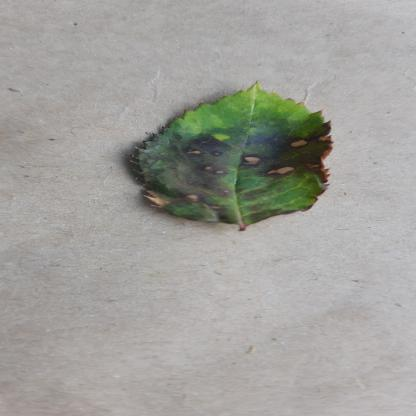powdery-mildew: (131, 84, 345, 225)
